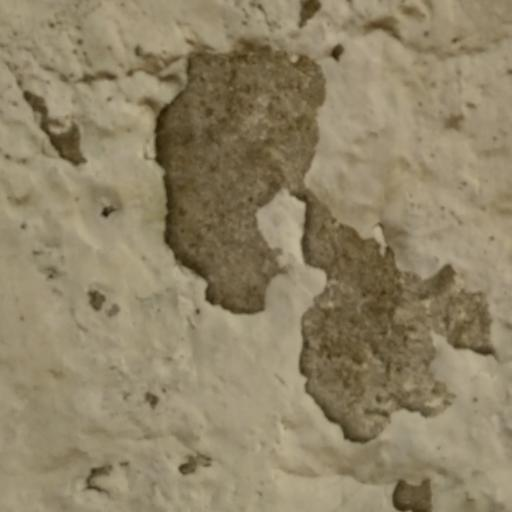peeling: (126, 22, 512, 512)
